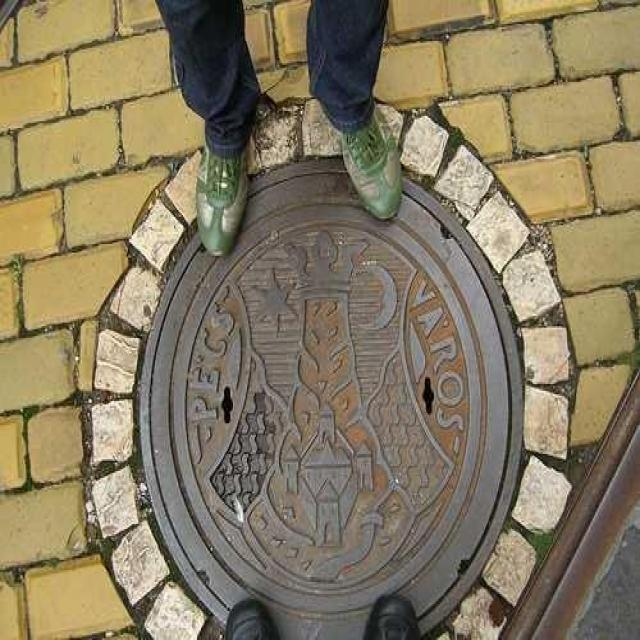manhole: (136, 157, 525, 640)
